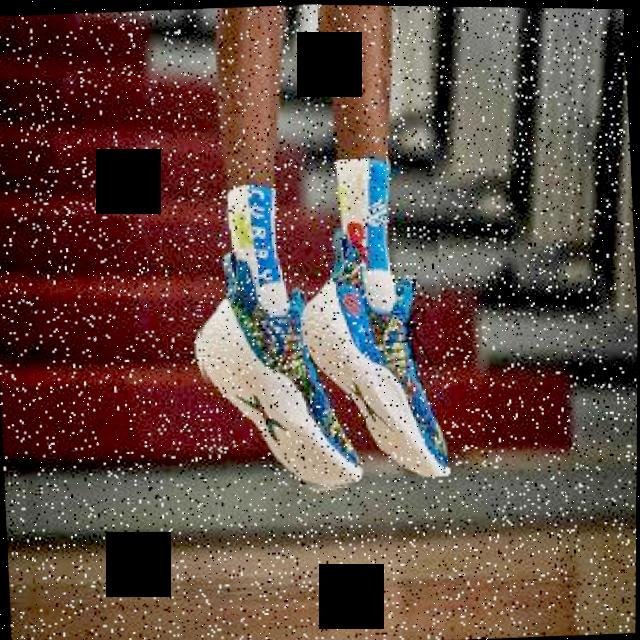shoe: (191, 245, 360, 499), (292, 221, 451, 482)
